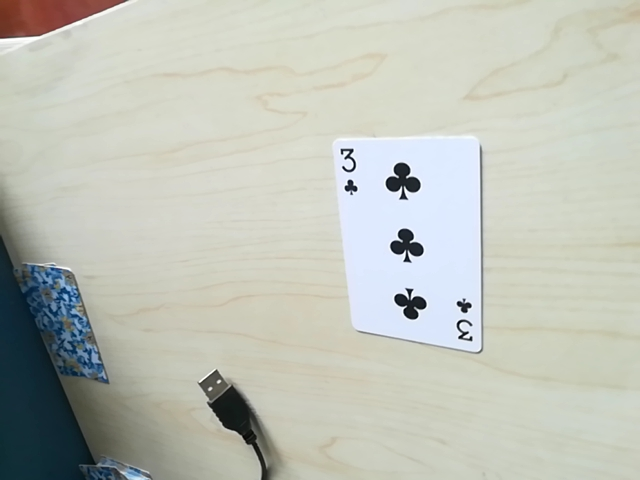mh 3: (330, 146, 366, 202), (452, 295, 480, 351)
